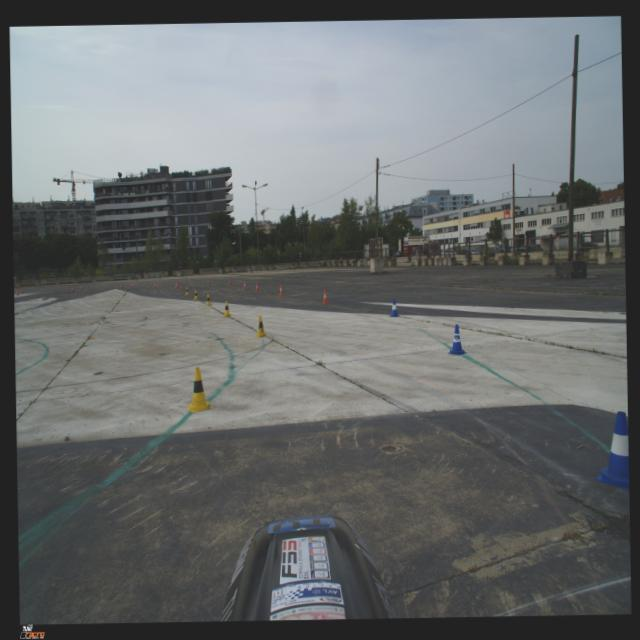blue_cone: (594, 412, 628, 492), (446, 324, 466, 355), (388, 298, 401, 316)
orange_cone: (321, 289, 329, 304), (278, 284, 284, 295), (254, 282, 260, 292), (242, 281, 246, 289), (228, 278, 232, 286), (179, 283, 183, 291), (174, 281, 178, 288), (15, 288, 19, 295), (174, 280, 178, 286), (152, 282, 156, 288), (120, 282, 124, 288), (78, 284, 82, 290), (70, 286, 74, 292), (19, 288, 23, 294), (207, 278, 210, 285), (130, 282, 133, 288)
yellow_cone: (185, 366, 212, 413), (254, 314, 266, 338), (222, 300, 232, 316), (204, 294, 212, 306), (192, 289, 200, 299), (184, 286, 189, 296)
